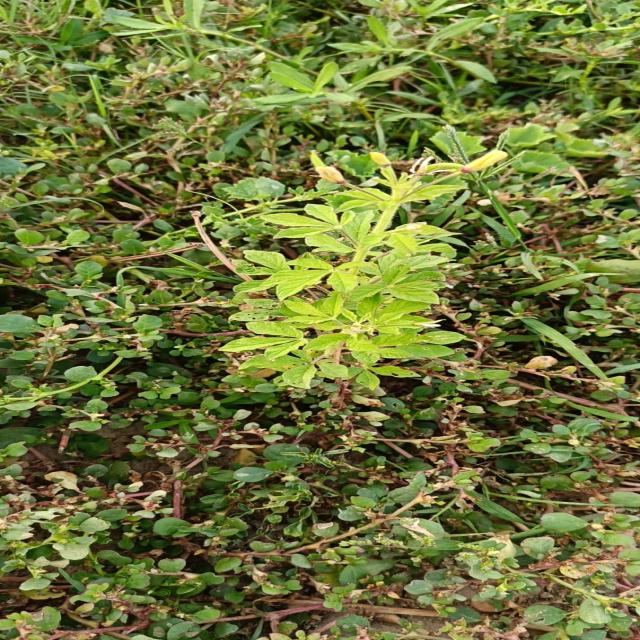plant: (220, 150, 505, 389)
